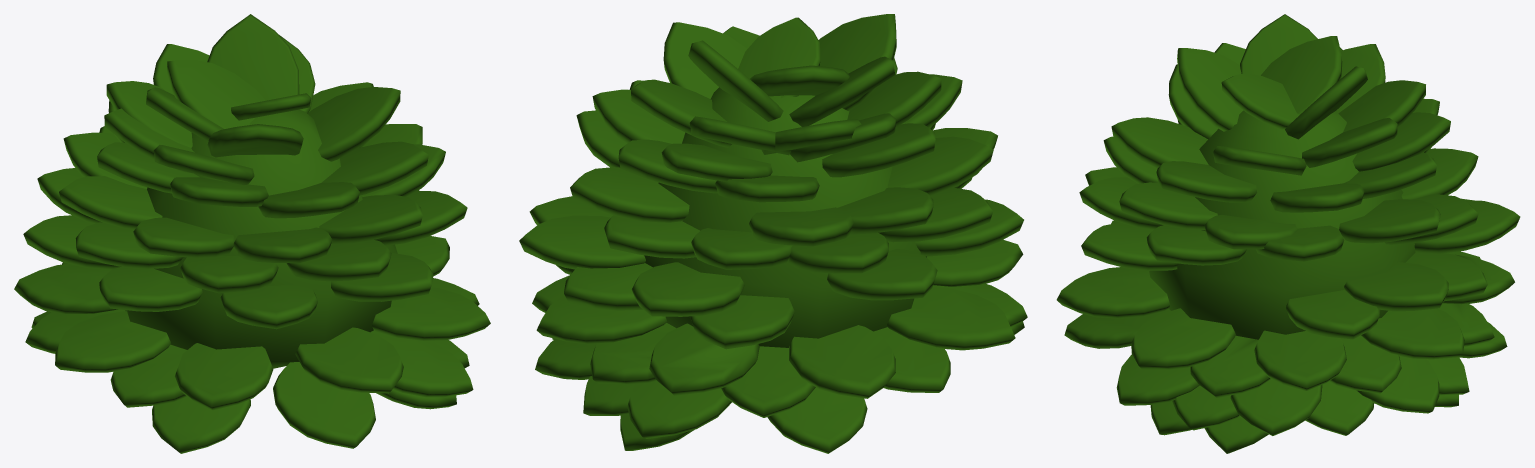
The model's file is plant.fbx.
3 renders of one model, left to right at view 1: azimuth 30°, elevation 25°; view 2: azimuth 150°, elevation 25°; view 3: azimuth 270°, elevation 25°, orthographic. The views are drawn at different scales.
Visible parts, largest first — view 1: Circle.001; view 2: Circle.001; view 3: Circle.001.
Boxes of the visible parts, x1,y1,x2,y2 form: Circle.001: (14, 14, 490, 453); Circle.001: (519, 14, 1027, 453); Circle.001: (1056, 14, 1520, 453).
Bounding box in the file's own units: 127 × 129 × 102.
